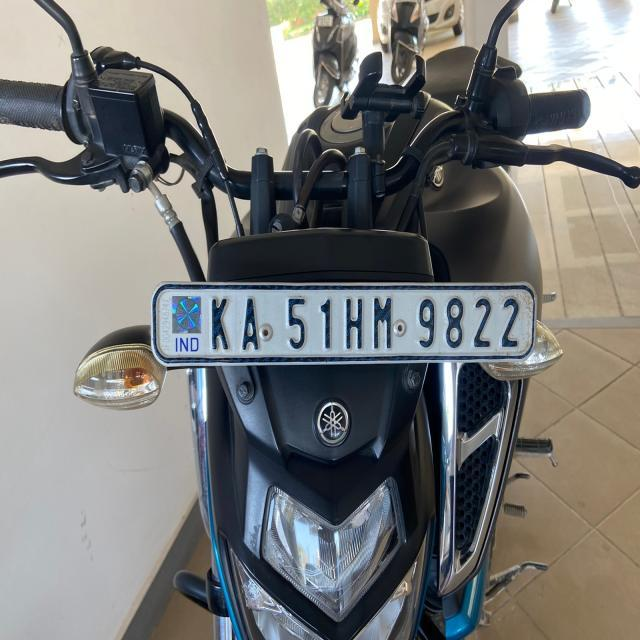1: (314, 291, 338, 360)
5: (280, 289, 312, 356)
8: (444, 292, 467, 347)
9: (416, 290, 438, 353)
A: (238, 290, 268, 354)
H: (343, 294, 364, 358)
K: (204, 290, 234, 352)
M: (370, 292, 398, 358)
